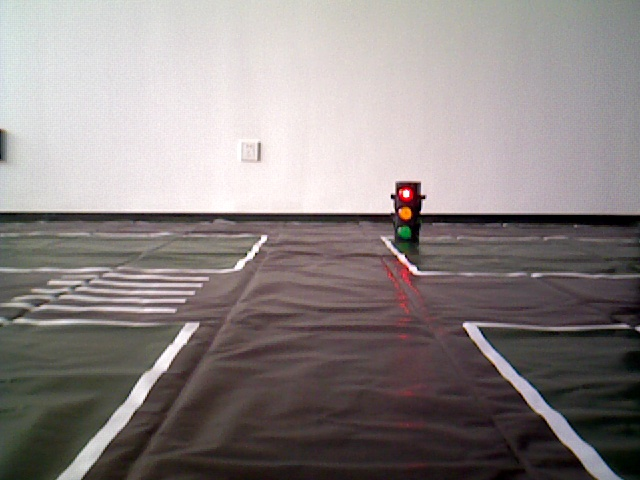red: (392, 182, 417, 241)
